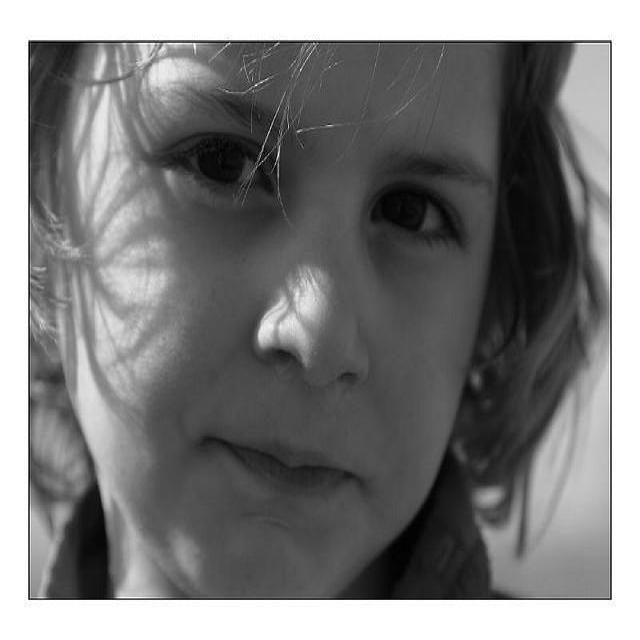no-glass: (143, 119, 470, 248)
